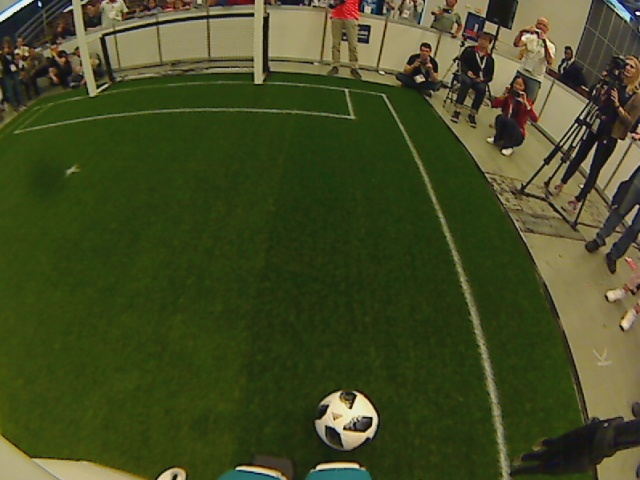ball: (313, 387, 380, 451)
